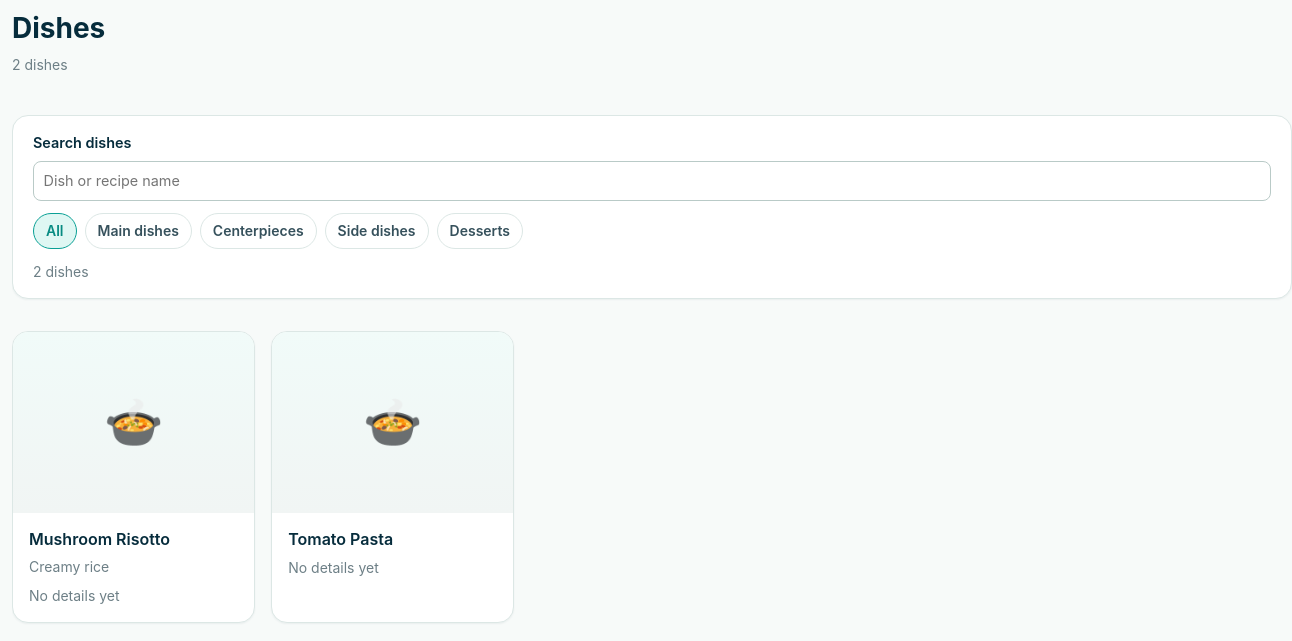
DishListPage › filters dishes in real time as the user types
Check: the heading "Mushroom Risotto" is shown, box [29,529,170,549]
Check: the heading "Tomato Pasta" is shown, box [288,529,393,549]
Step 1. Type "pasta" into the search field labelled "Search dishes" → [652, 181], box [33,161,1271,201]
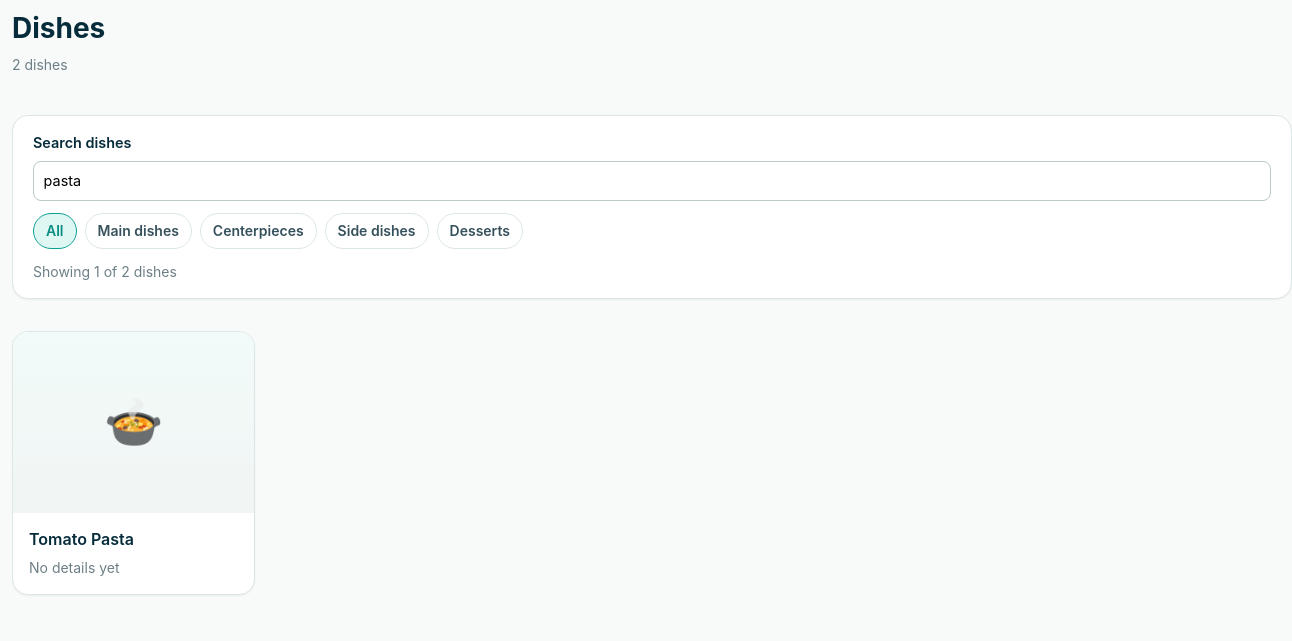
Check: the heading "Tomato Pasta" is shown, box [29,529,134,549]
Check: the link "Mushroom Risotto" is gone
